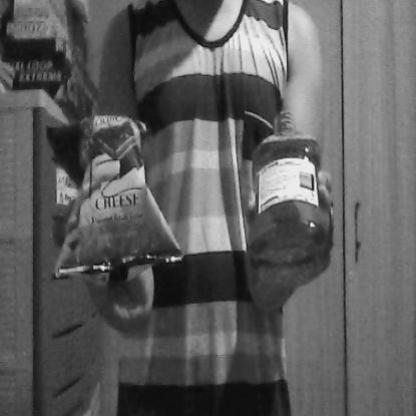Plastic Bottle: (230, 94, 348, 294)
